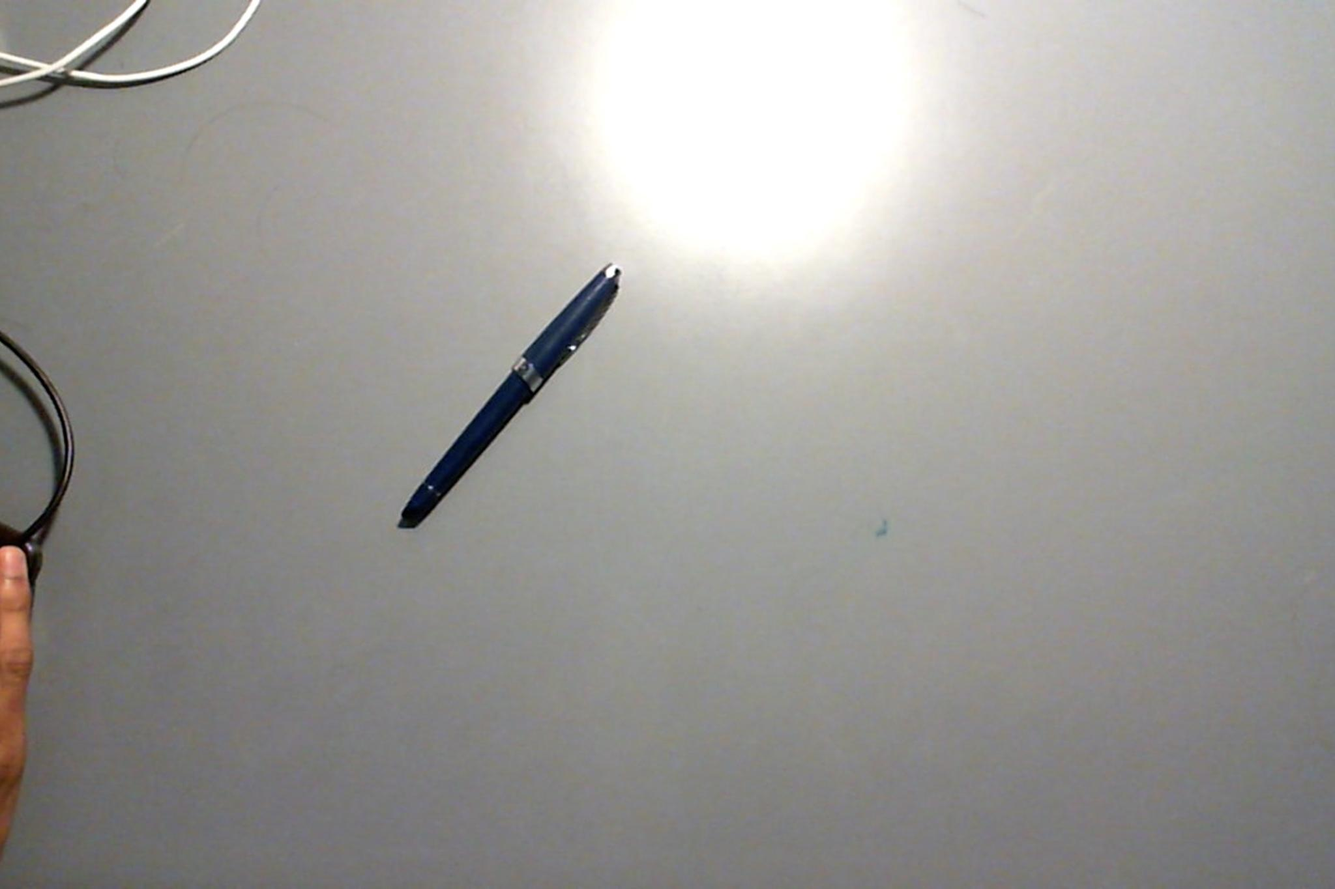pen-pencil: (397, 265, 621, 529)
